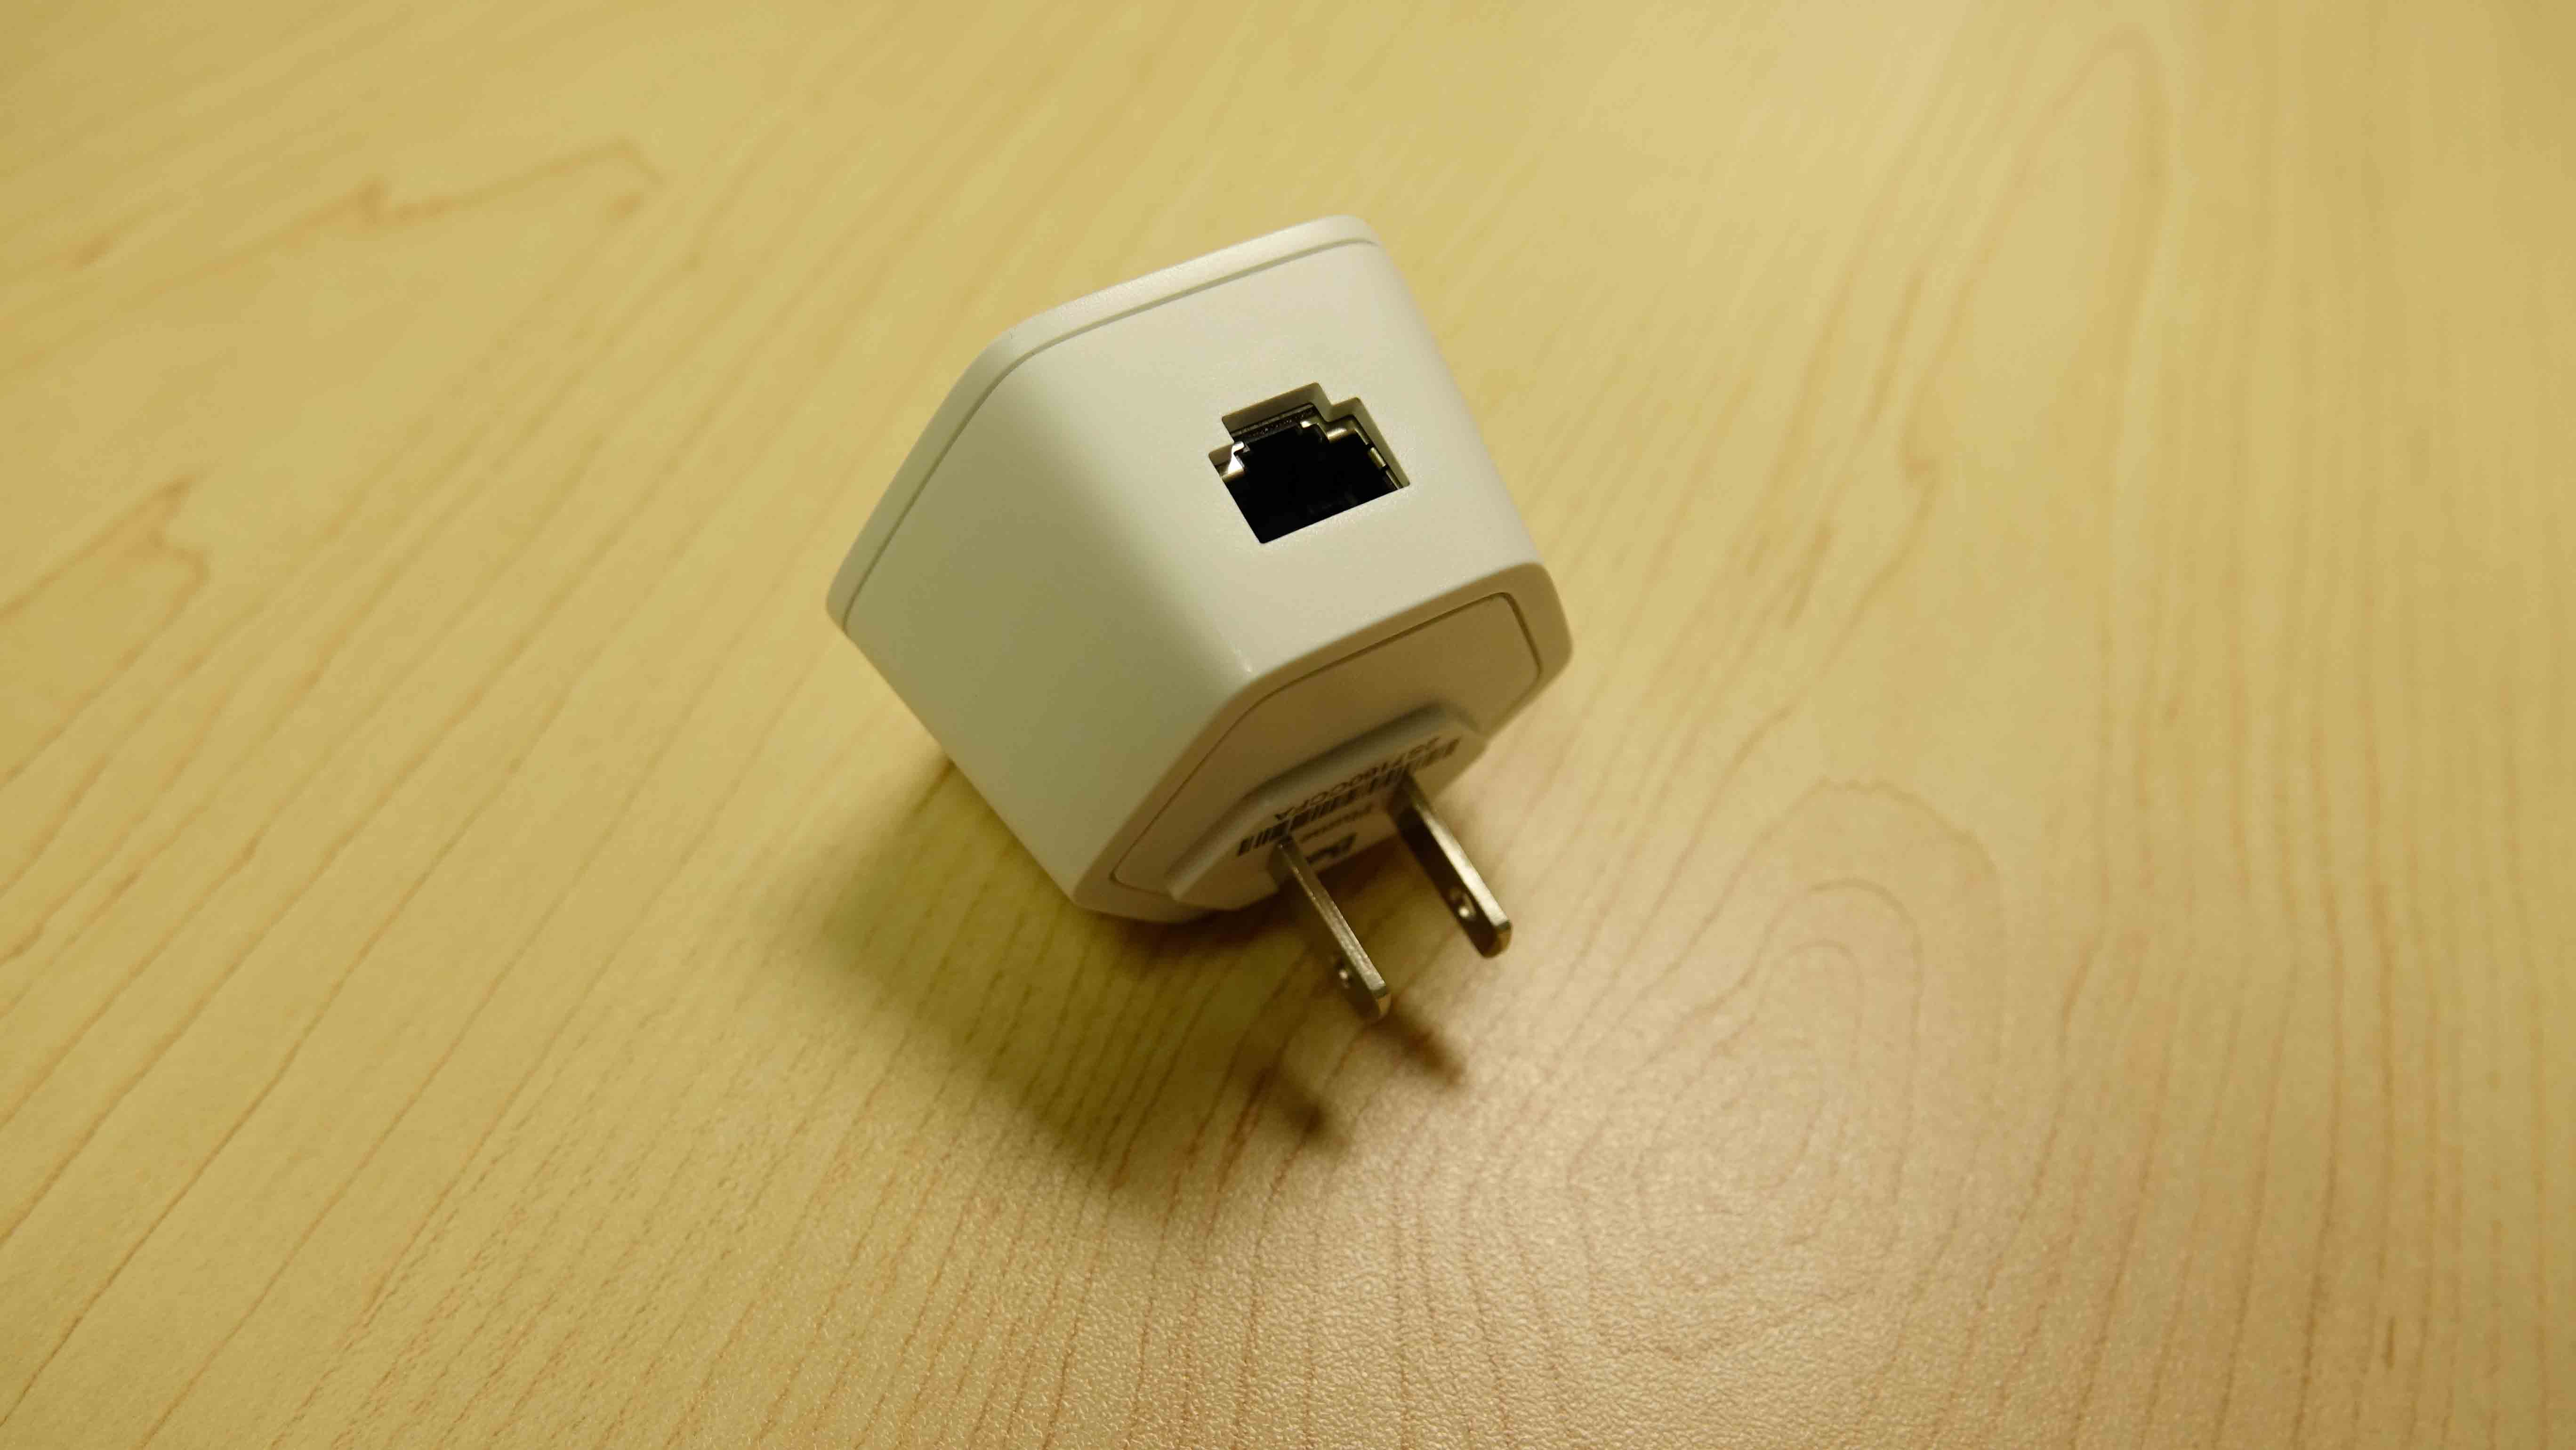pod: (814, 202, 1585, 1054)
